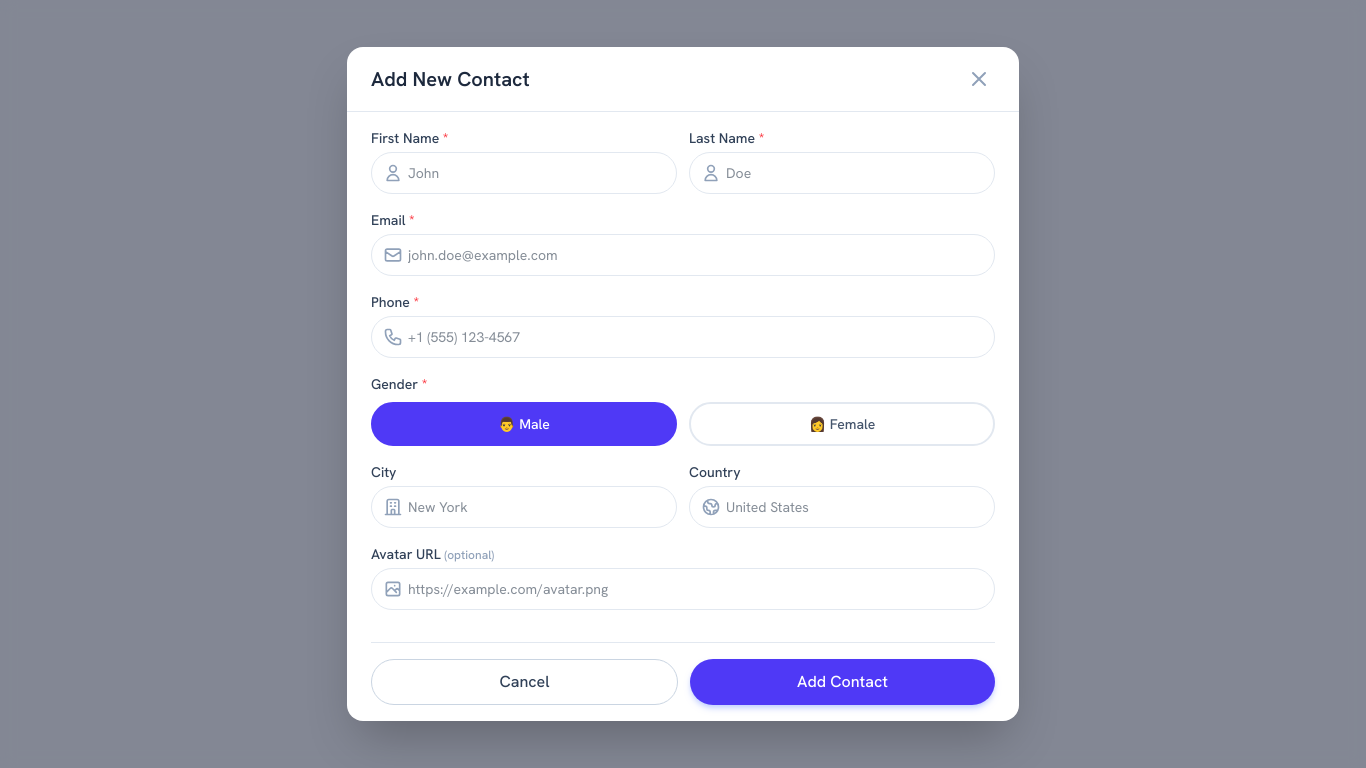
Test case: ContactForm › should show validation error for empty firstName on submit
Click the button "Add Contact" at (842, 682), box [690, 659, 995, 705]
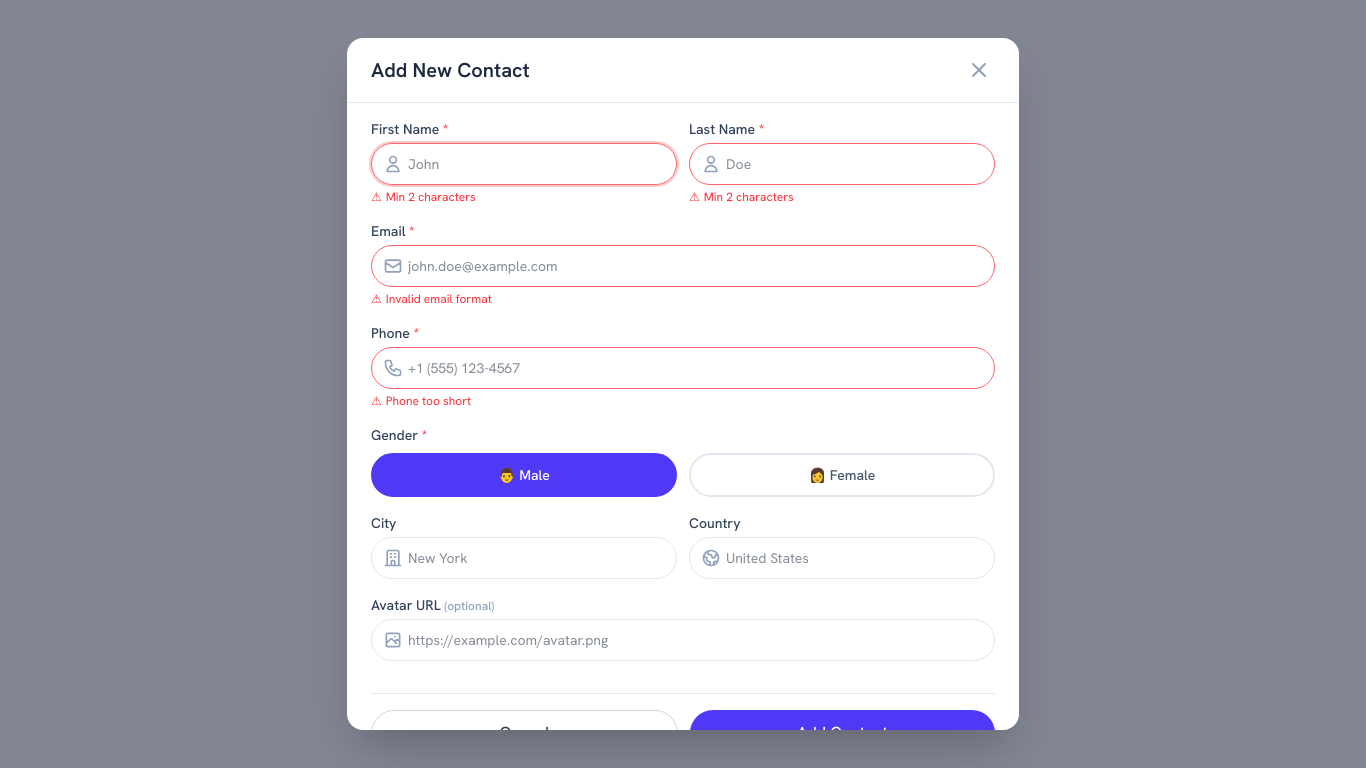
Now the text "⚠ Min 2 characters" below "First Name" is shown, box [386, 189, 476, 205]
